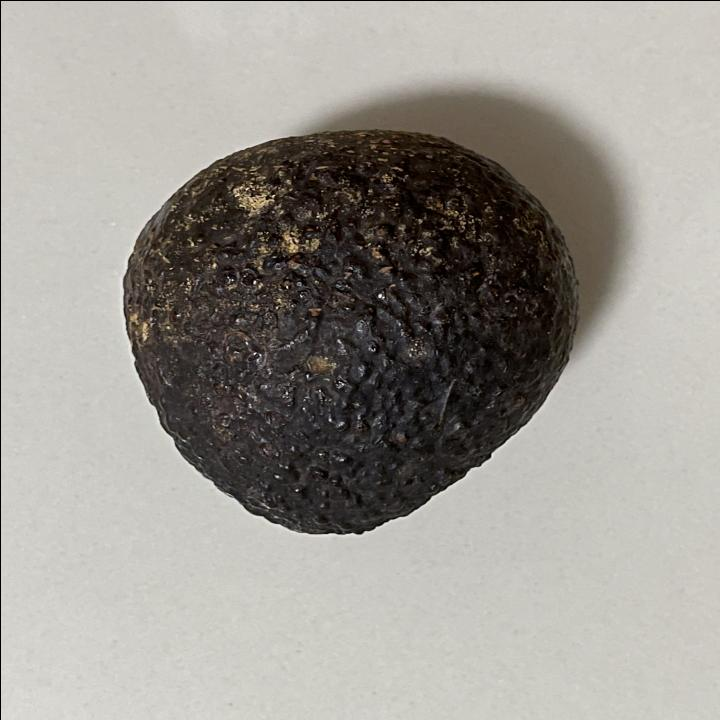Level3: (110, 121, 589, 549)
